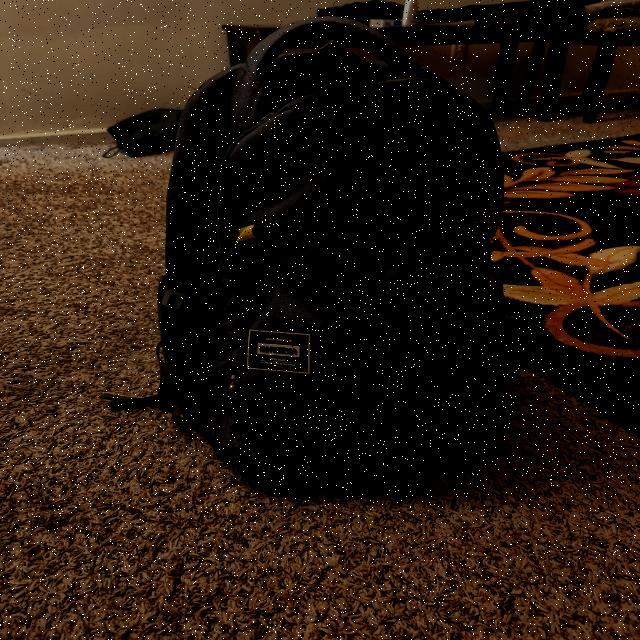bag: (170, 25, 507, 471)
